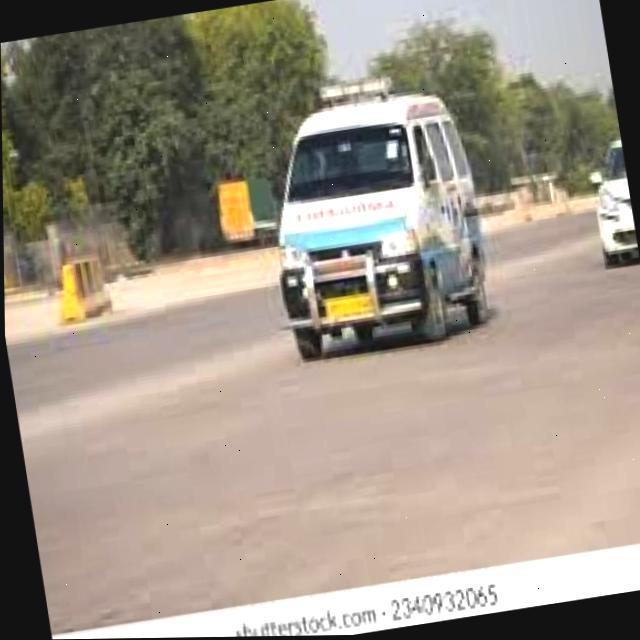emergency: (246, 67, 461, 373)
